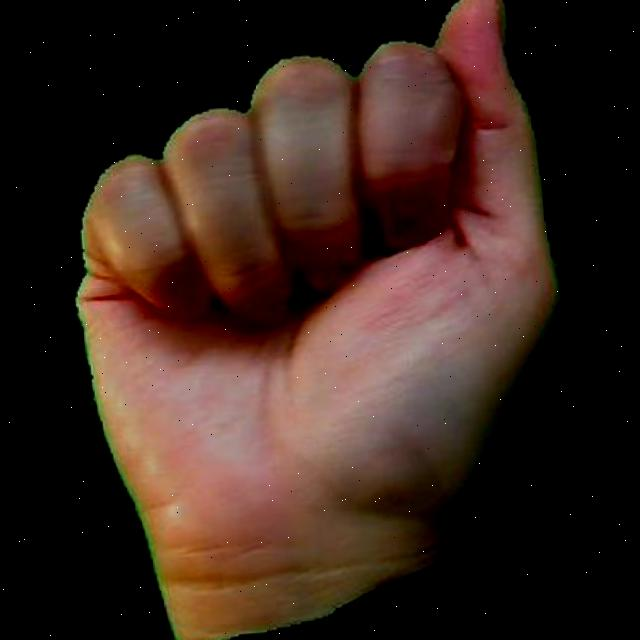a: (45, 0, 583, 640)
